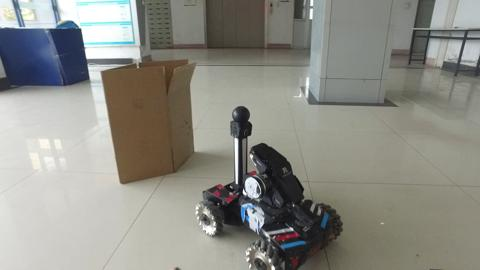box: (98, 64, 193, 177)
chariot: (195, 104, 348, 270)
